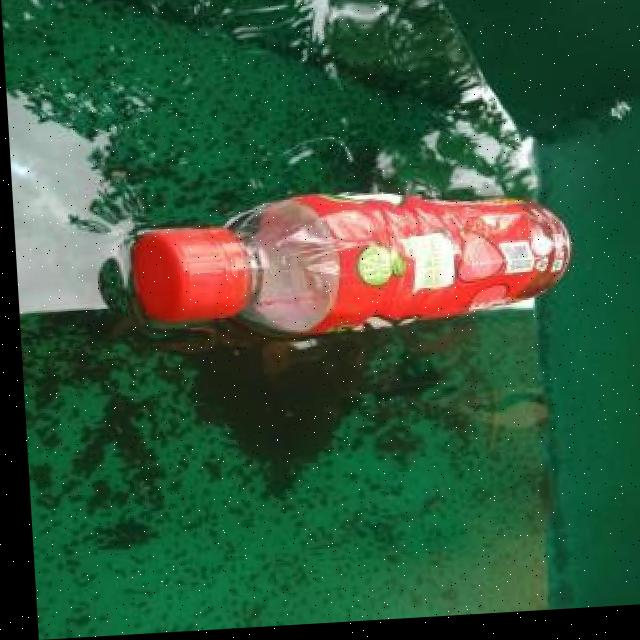bottle: (120, 182, 574, 349)
